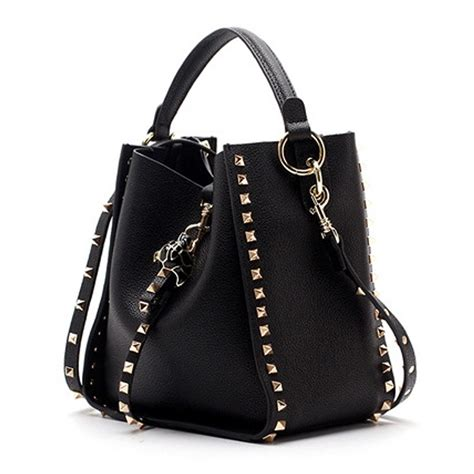cuero: (63, 24, 418, 447)
